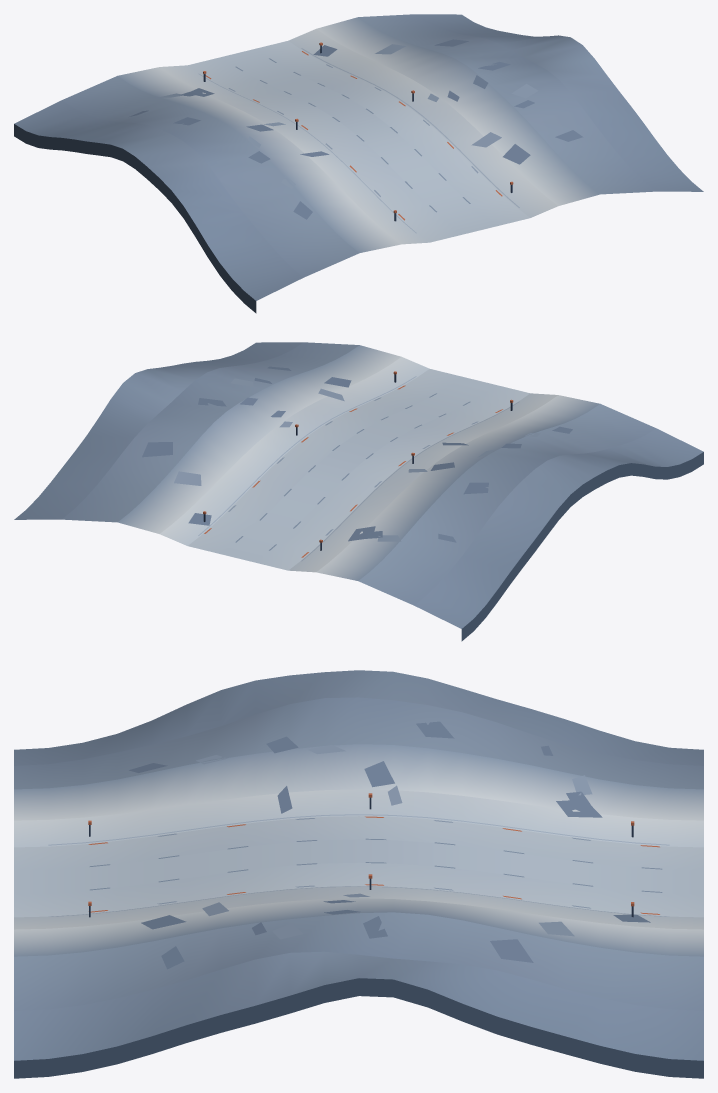
Rendered from 03-slope.glb.
3 renders of one model, top to bottom at view 1: azimuth 30°, elevation 25°; view 2: azimuth 150°, elevation 25°; view 3: azimuth 270°, elevation 25°, orthographic. The views are drawn at different scales.
Visible parts, largest first — view 1: slope; view 2: slope; view 3: slope.
Boxes of the visible parts, x1=… form: slope: x1=14, y1=14, x2=703, y2=313; slope: x1=14, y1=342, x2=703, y2=641; slope: x1=14, y1=670, x2=703, y2=1078.
Size of the model in its own units: 32 by 4.96 by 30.
